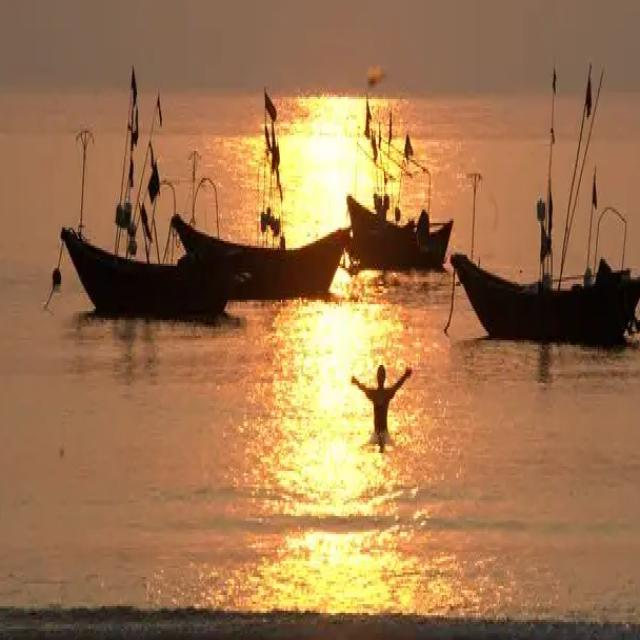fishing boat: (455, 54, 640, 353), (62, 63, 230, 322), (179, 79, 345, 296), (348, 88, 452, 275)
